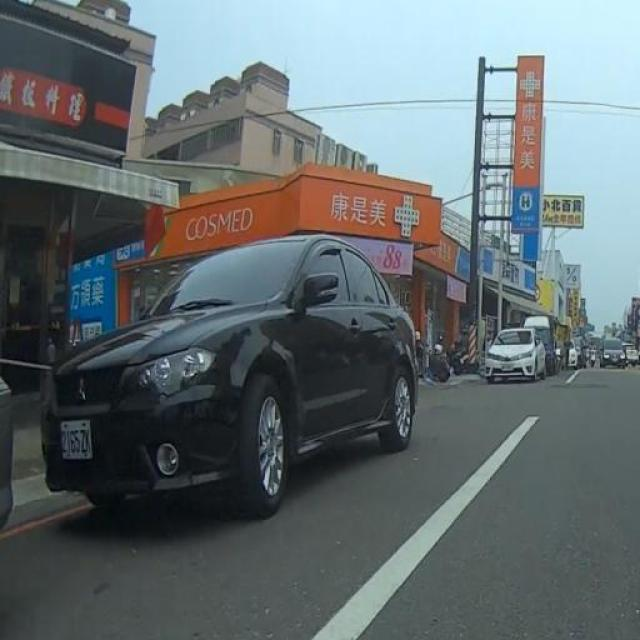Legalparking: (486, 315, 625, 381)
illegalparking: (41, 234, 418, 518)
